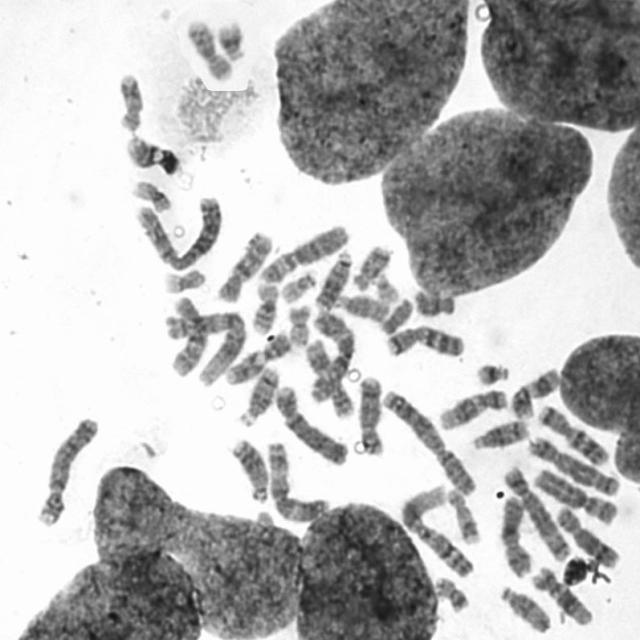A1: (394, 479, 477, 580), (160, 303, 248, 387)
A2: (376, 383, 478, 497), (128, 187, 225, 271)
A3: (261, 434, 332, 523), (303, 305, 357, 405)
B4: (30, 409, 100, 528), (269, 378, 351, 468)
B5: (498, 460, 572, 562), (523, 429, 622, 497)
C10: (212, 224, 276, 304), (165, 290, 208, 377)
C11: (299, 333, 356, 419), (504, 360, 562, 419)
C12: (527, 560, 595, 627), (434, 381, 510, 431)
C6: (255, 217, 352, 284), (528, 460, 622, 526)
C7: (532, 397, 611, 467), (380, 317, 466, 359)
C8: (549, 499, 622, 570), (353, 370, 386, 457)
C9: (220, 325, 294, 386), (120, 137, 186, 185)
D13: (224, 431, 270, 503), (309, 243, 355, 312)
D14: (233, 360, 282, 428), (466, 412, 530, 452)
D15: (494, 579, 553, 634), (331, 286, 391, 323)
E16: (181, 12, 235, 82), (245, 275, 282, 335)
E17: (440, 481, 482, 546), (112, 64, 146, 132)
E18: (347, 238, 394, 292), (375, 291, 416, 335)
F19: (126, 174, 174, 212), (157, 262, 208, 294)
F20: (429, 570, 471, 614), (282, 296, 314, 348)
G21: (211, 14, 248, 62), (469, 354, 512, 387)
G22: (275, 263, 319, 304), (368, 266, 402, 303)
X: (494, 490, 536, 578)
